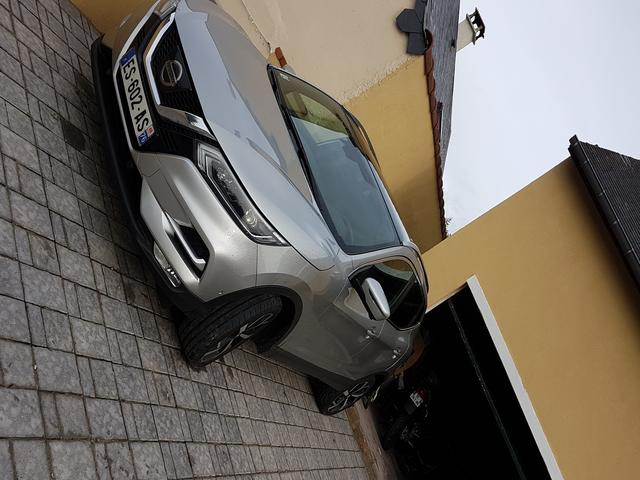Quashquai: (111, 46, 161, 150)
